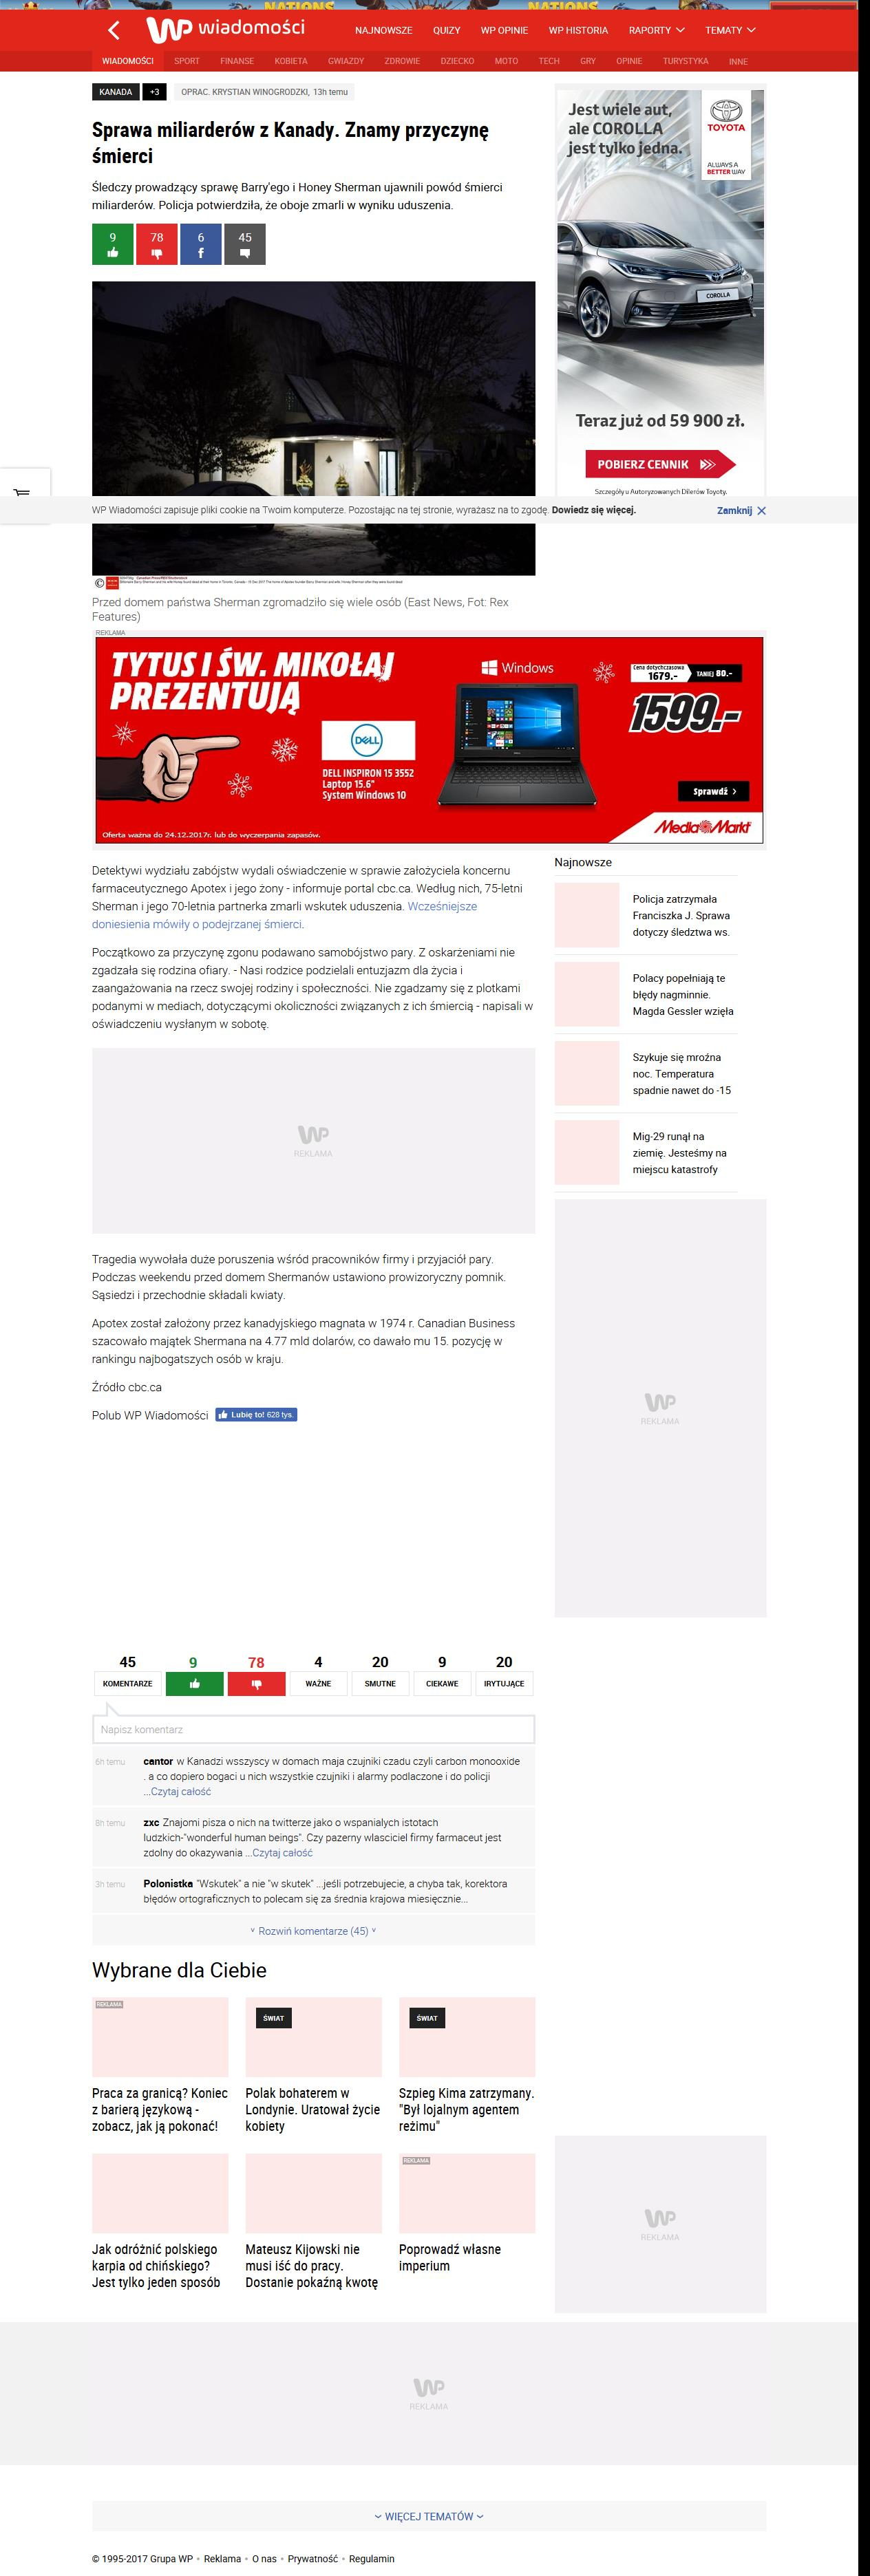title: (92, 120, 490, 166)
